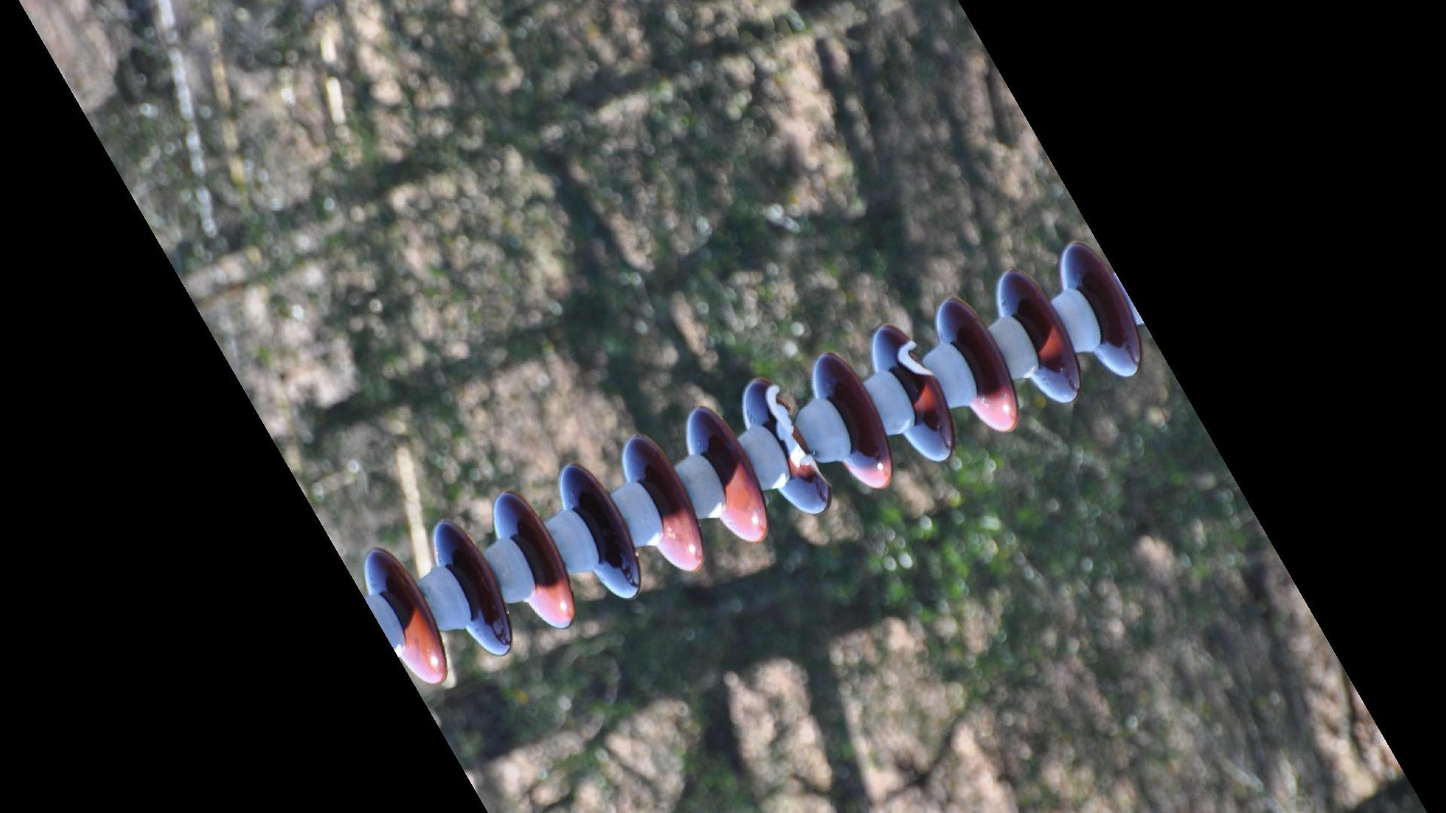insulator: (361, 233, 1152, 693)
insulator_breakage: (756, 376, 834, 495), (891, 330, 940, 388)
